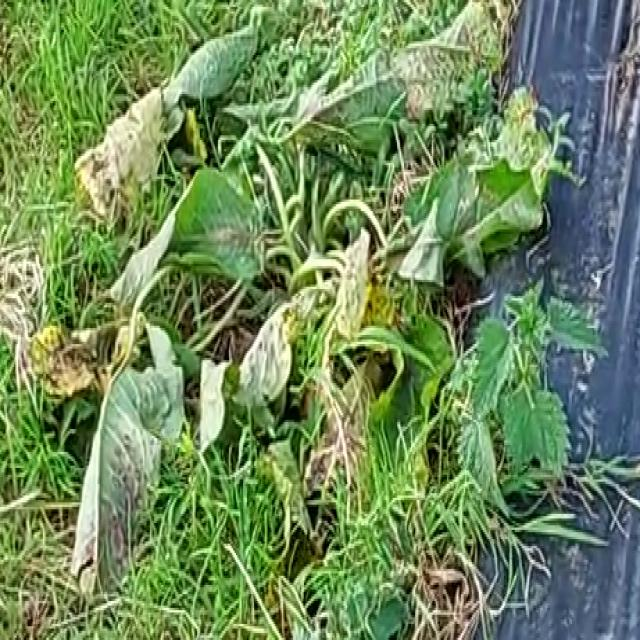organic waste: (66, 18, 582, 592)
